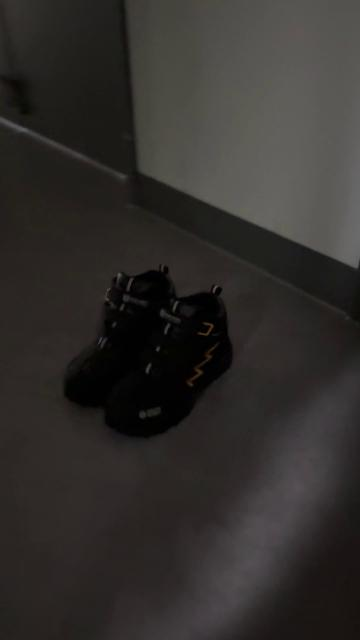shoe_worn: (99, 287, 232, 445), (63, 263, 178, 409)
